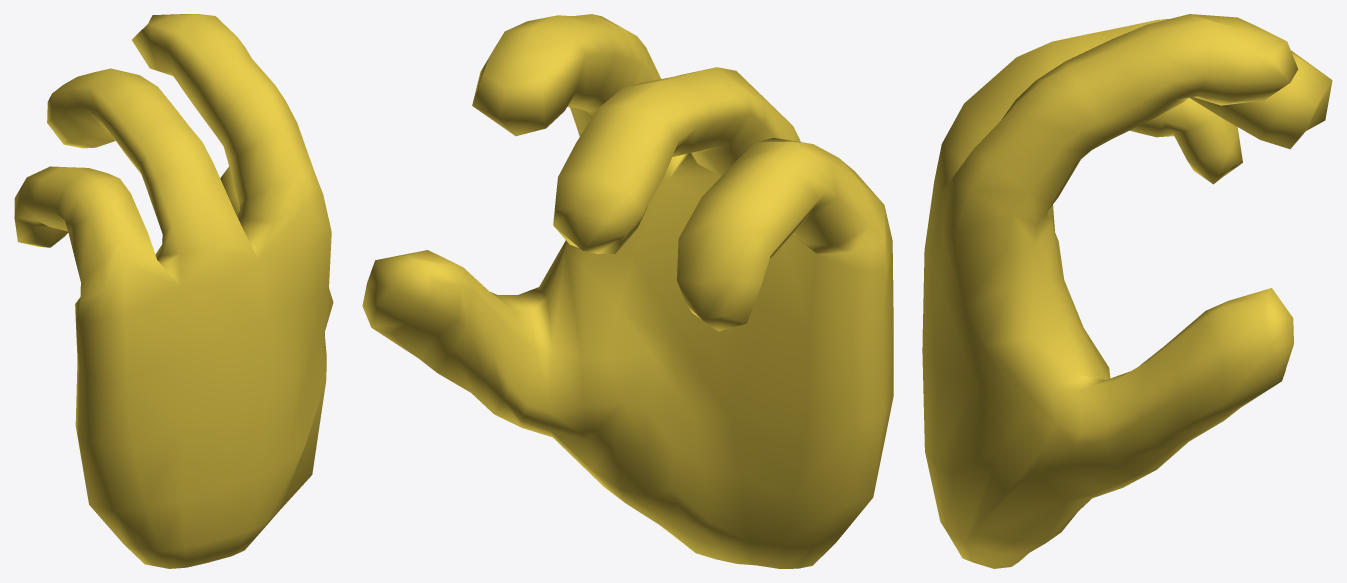
File: Hand_NO_Anim.fbx
The picture shows the model from 3 angles, left to right: view 1: azimuth 30°, elevation 25°; view 2: azimuth 150°, elevation 25°; view 3: azimuth 270°, elevation 25°; orthographic projection. The views are drawn at different scales.
Parts seen in each view (by area): view 1: pCube1; view 2: pCube1; view 3: pCube1.
Boxes of the visible parts, left/top/right/bottom form: pCube1: left=14, top=14, right=333, bottom=568; pCube1: left=362, top=14, right=893, bottom=568; pCube1: left=922, top=14, right=1332, bottom=568.
Bounding box in the file's own units: 0.3449 × 0.4939 × 0.3188.
